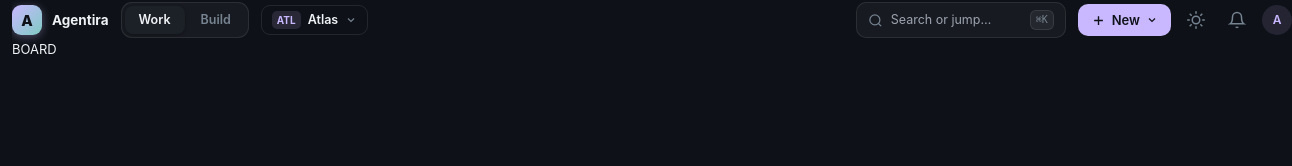
Test: AppTopbar — blended bar › project switcher sits next to Work | Build, shows the active project and jumps to another board
The width and height of the screenshot is (1292, 166).
Click the button with aria-label "Switch project": (315, 20) [261,5,368,35]
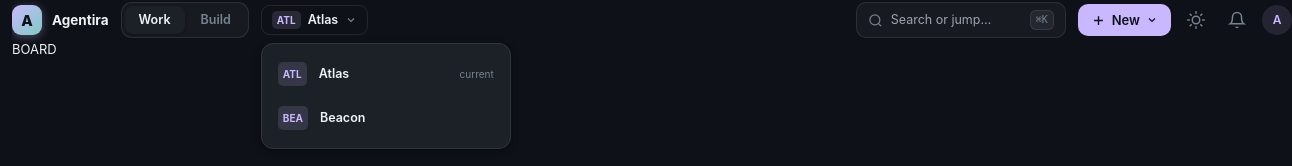
Click the menu item "BEA Beacon": (322, 118) [278,106,365,130]
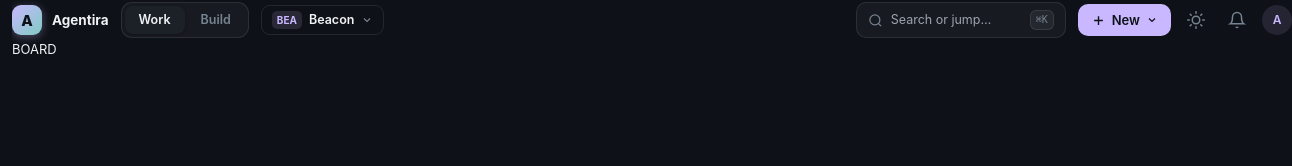
Expected: the text "BOARD" is shown, [12,41,57,57]
Result: the menu item is gone
